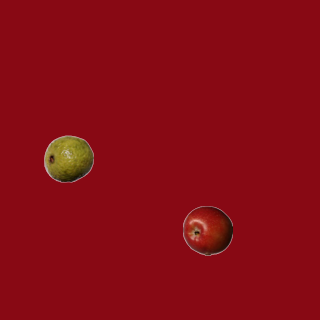Apple Braeburn: (182, 205, 232, 255)
Guava: (43, 133, 93, 183)
